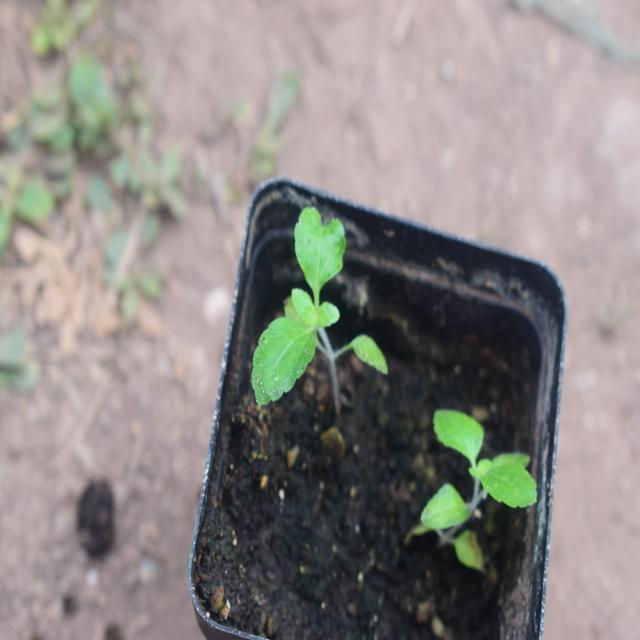billygoat_weed: (245, 196, 381, 415), (413, 374, 538, 536)
